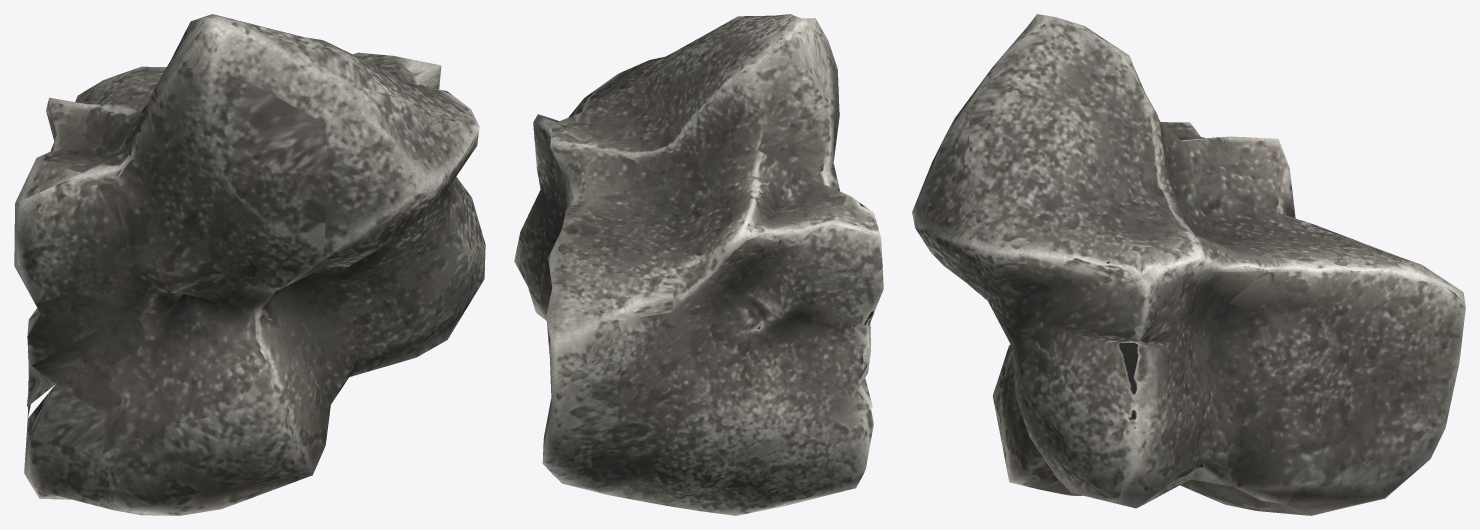
File: rockAB.glb
3 renders of one model, left to right at view 1: azimuth 30°, elevation 25°; view 2: azimuth 150°, elevation 25°; view 3: azimuth 270°, elevation 25°, orthographic. The views are drawn at different scales.
Parts seen in each view (by area): view 1: rockAB; view 2: rockAB; view 3: rockAB.
Boxes of the visible parts, left/top/right/bottom form: rockAB: left=14, top=14, right=485, bottom=515; rockAB: left=514, top=14, right=883, bottom=515; rockAB: left=912, top=14, right=1465, bottom=515.
Size of the model in its own units: 0.1236 by 0.1369 by 0.1391.
1 material, 1 textured.
